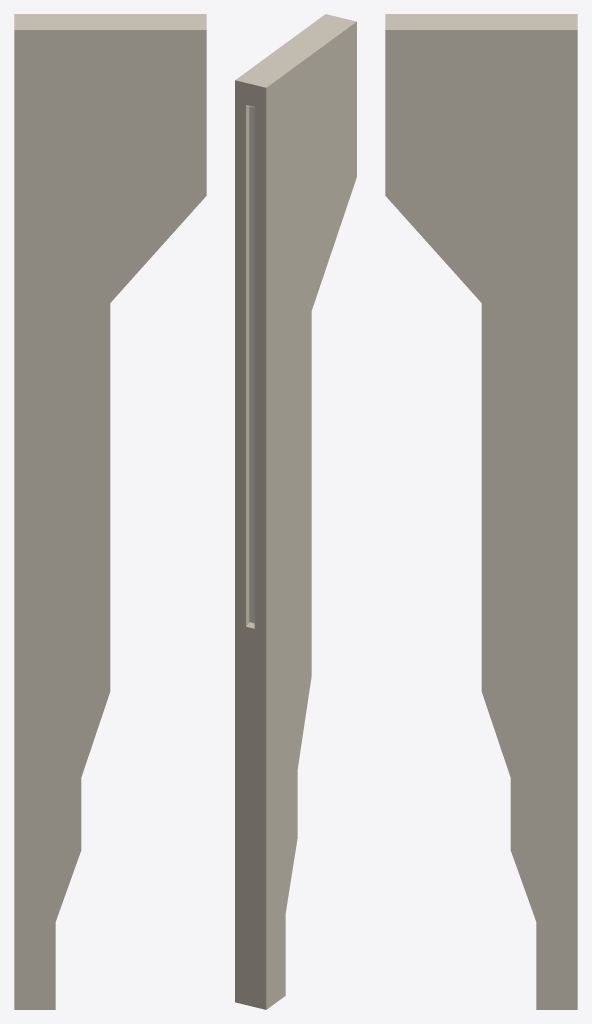
3 views of the same model, side by side, from view 1: azimuth 90°, elevation 25°; view 2: azimuth 150°, elevation 25°; view 3: azimuth 270°, elevation 25° (orthographic). The views are drawn at different scales.
Visible parts, largest first — view 1: Object03; view 2: Object03; view 3: Object03.
Boxes of the visible parts, x1,y1,x2,y2 form: Object03: [14, 14, 206, 1009]; Object03: [235, 14, 356, 1009]; Object03: [385, 14, 577, 1009].
Bounding box in the file's own units: 14.35 × 406 × 72.18.
